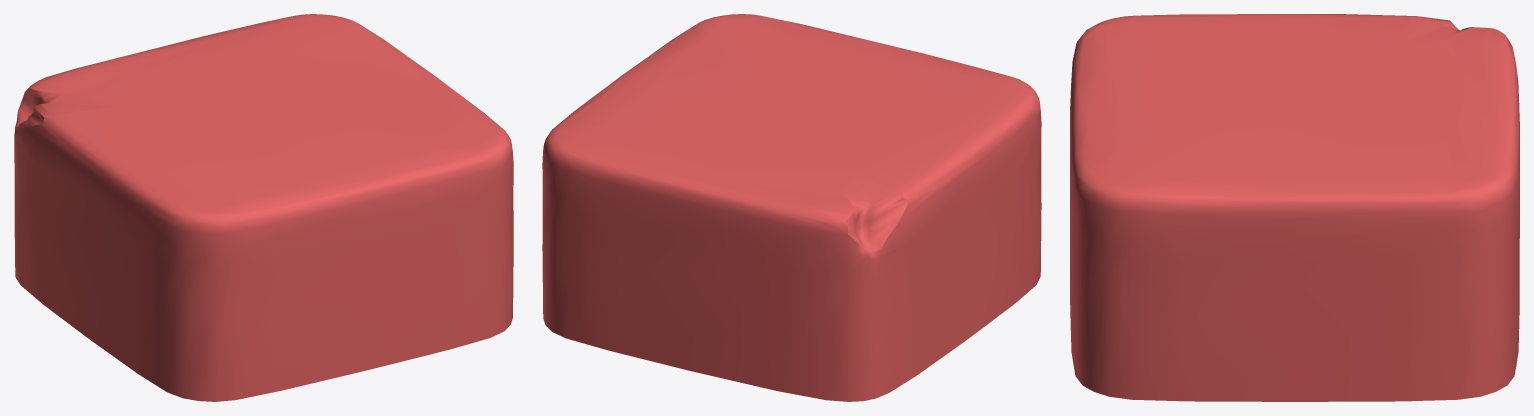
Rendered from lavaDing_04.fbx.
3 renders of one model, left to right at view 1: azimuth 30°, elevation 25°; view 2: azimuth 150°, elevation 25°; view 3: azimuth 270°, elevation 25°, orthographic. The views are drawn at different scales.
Visible parts, largest first — view 1: Cube.019; view 2: Cube.019; view 3: Cube.019.
Boxes of the visible parts, bbox=[...] form: Cube.019: bbox=[14, 14, 513, 401]; Cube.019: bbox=[542, 14, 1041, 401]; Cube.019: bbox=[1070, 14, 1519, 401].
Bounding box in the file's own units: 200 × 99.99 × 200.
